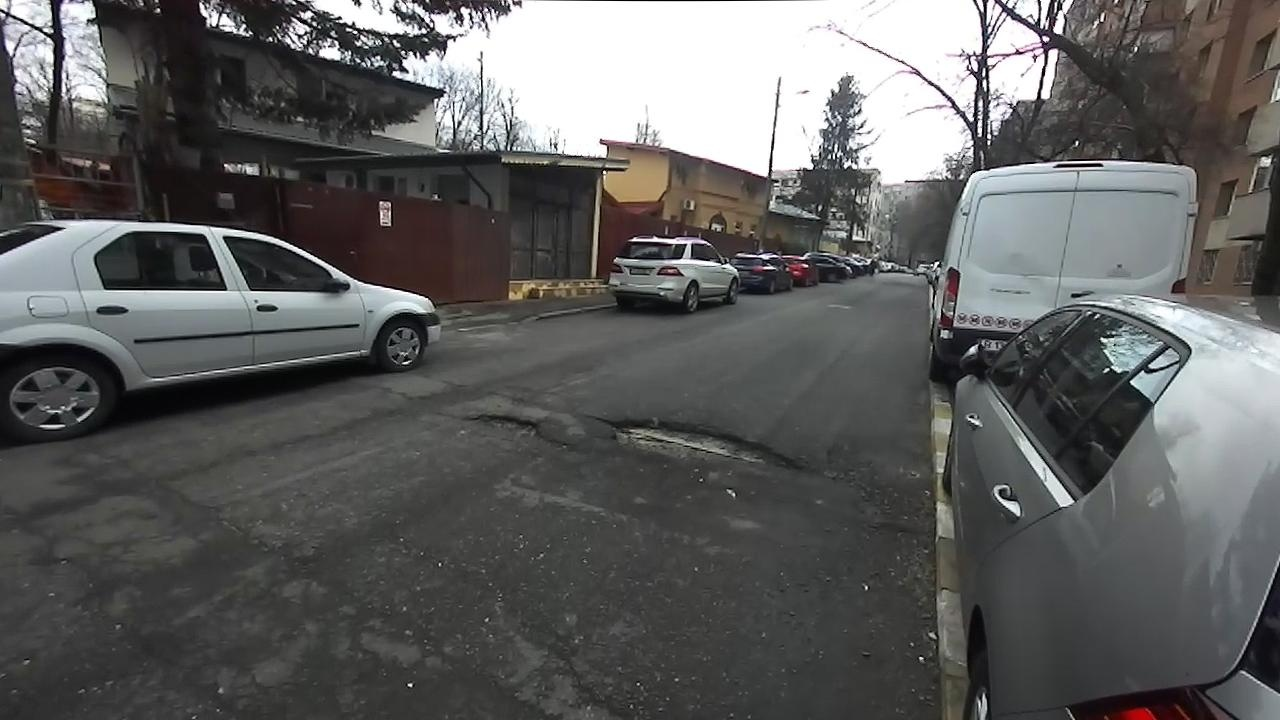pothole: (585, 410, 816, 477), (457, 407, 576, 450)
